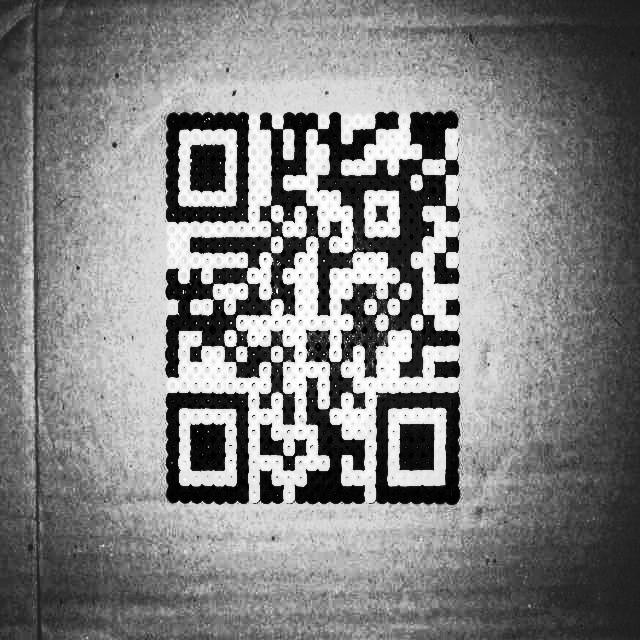qr_code: (167, 113, 458, 502)
